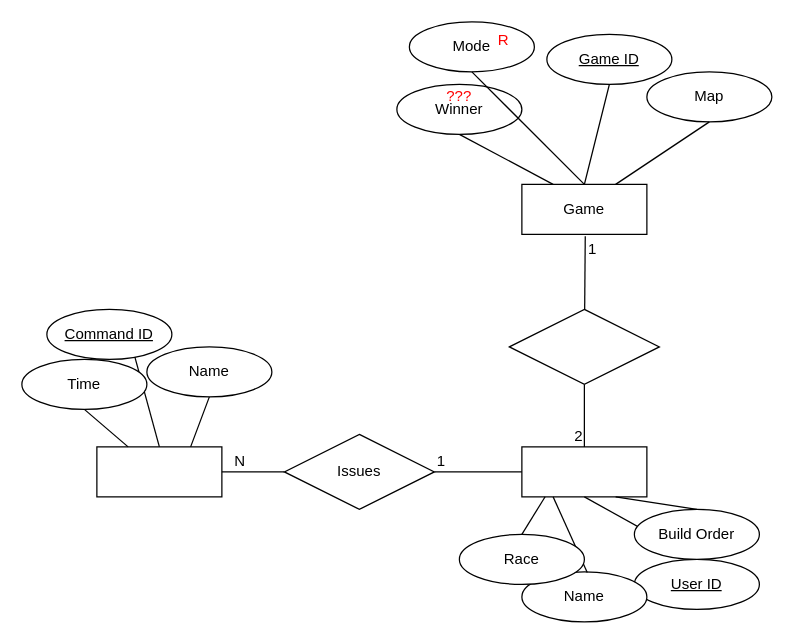
Some shapes in this 794 by 644 pixel diagram are drawn without their labels. Each missing label, with the centre of its shape:
"Commands" belongs at (x=159, y=471).
"Player" belongs at (x=584, y=471).
"Plays" belongs at (x=583, y=346).
